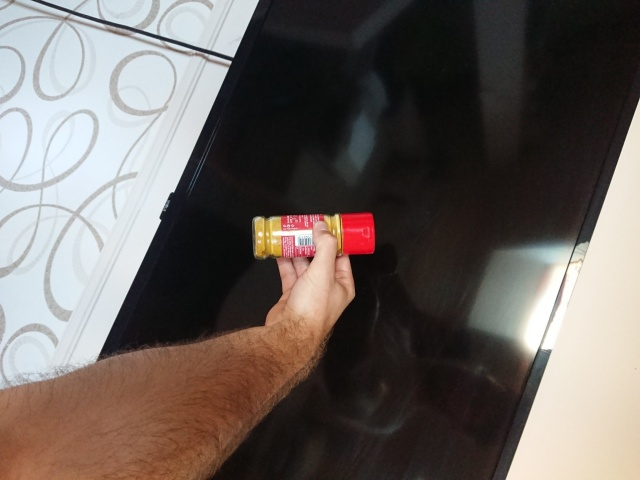Kotanyi Curry Spices Mix 70g: (249, 211, 378, 263)
